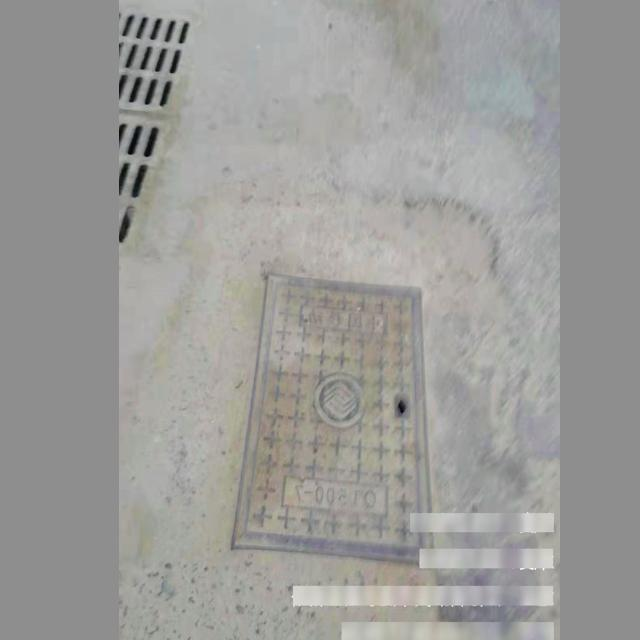good: (233, 271, 451, 562)
